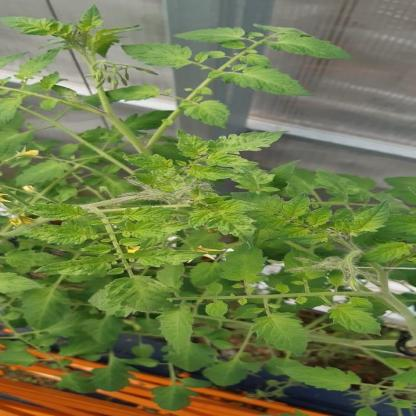T_L_H: (209, 66, 308, 95), (121, 44, 198, 68), (177, 28, 243, 42)
T_L_R: (188, 197, 255, 239), (36, 256, 117, 276), (24, 224, 100, 245), (210, 133, 284, 154), (349, 203, 390, 237), (121, 222, 189, 240), (26, 205, 87, 221), (122, 207, 184, 222), (281, 194, 311, 220)
